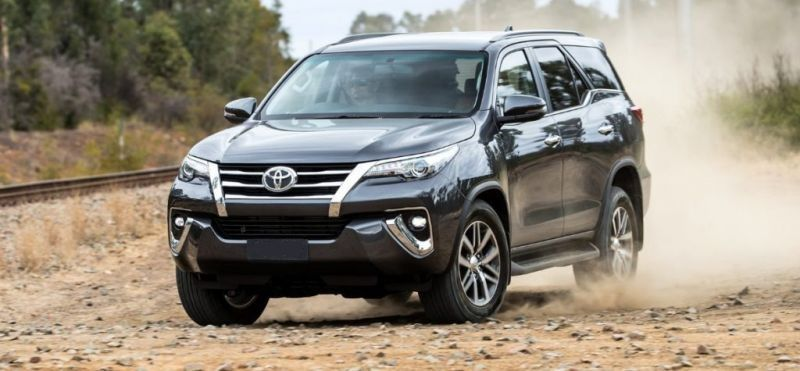car: (168, 25, 653, 320)
